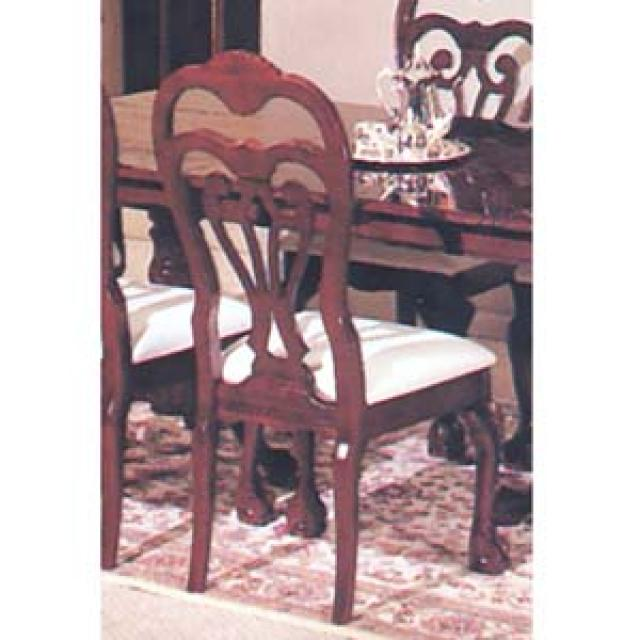chair: (149, 47, 511, 626)
